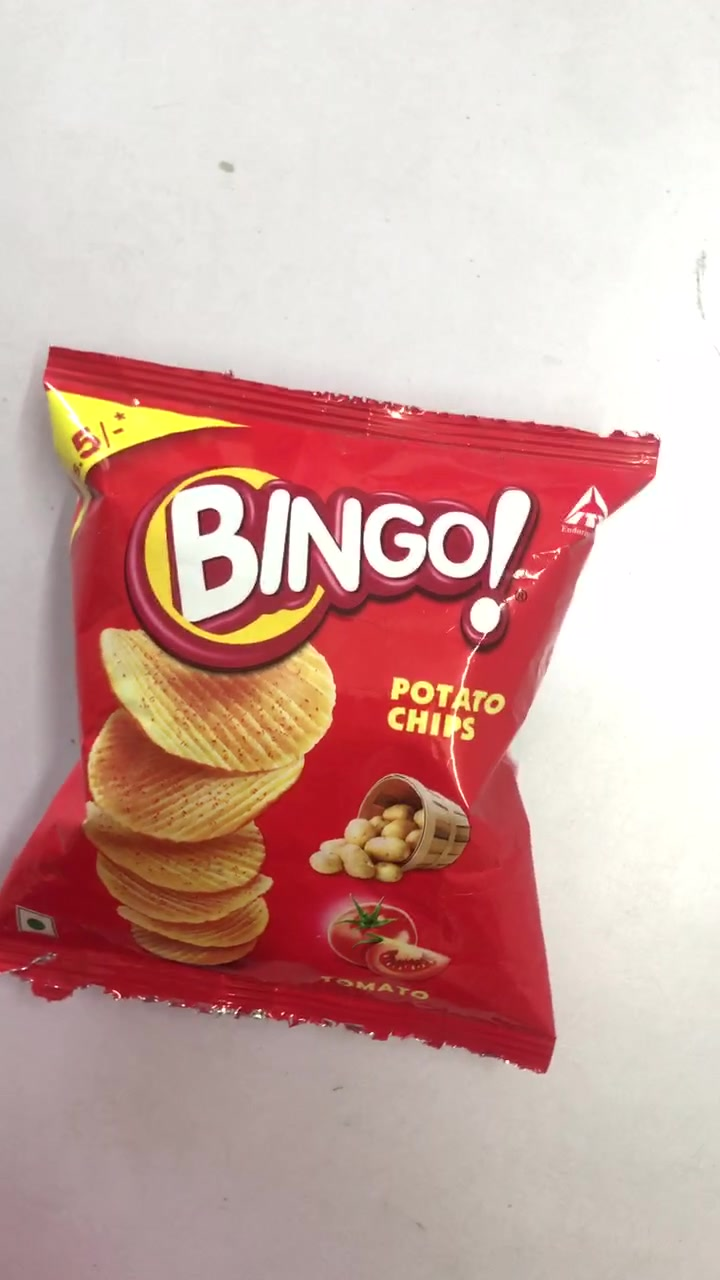Bingo: (13, 349, 653, 1067)
